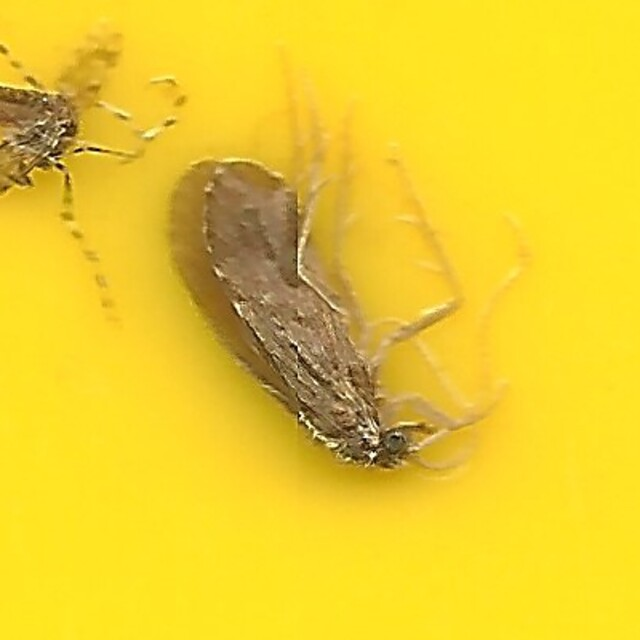Trichoptera: (160, 148, 480, 492)
